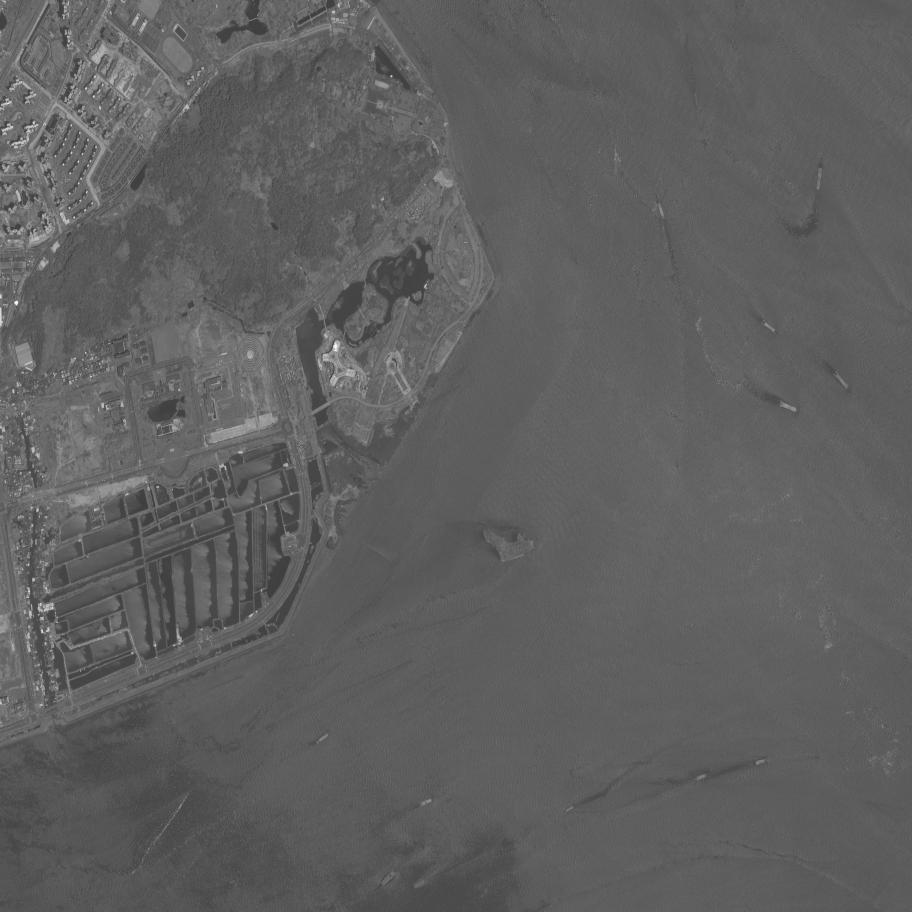ship: (830, 368, 854, 394), (379, 868, 399, 888), (760, 319, 782, 337), (778, 401, 804, 416), (814, 161, 825, 191), (654, 197, 667, 221), (411, 877, 432, 891), (315, 730, 333, 745), (752, 756, 771, 768), (692, 772, 709, 783), (417, 797, 434, 808), (563, 803, 578, 814), (224, 877, 239, 887), (693, 92, 699, 109)
